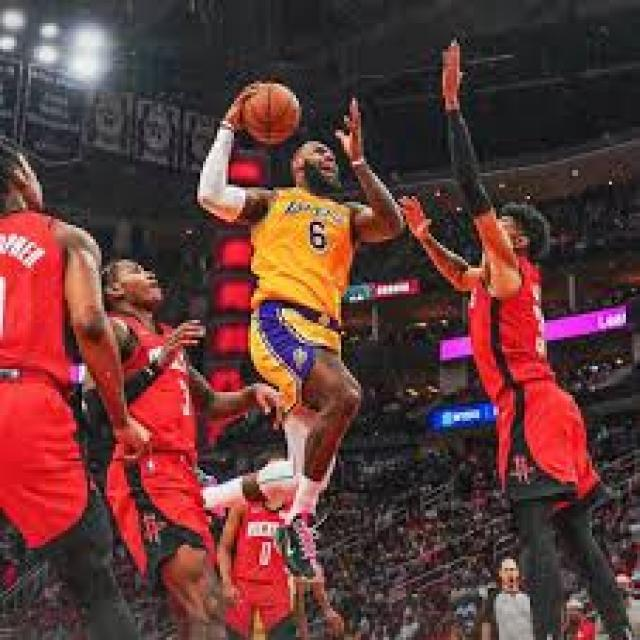rim: (246, 84, 302, 142)
